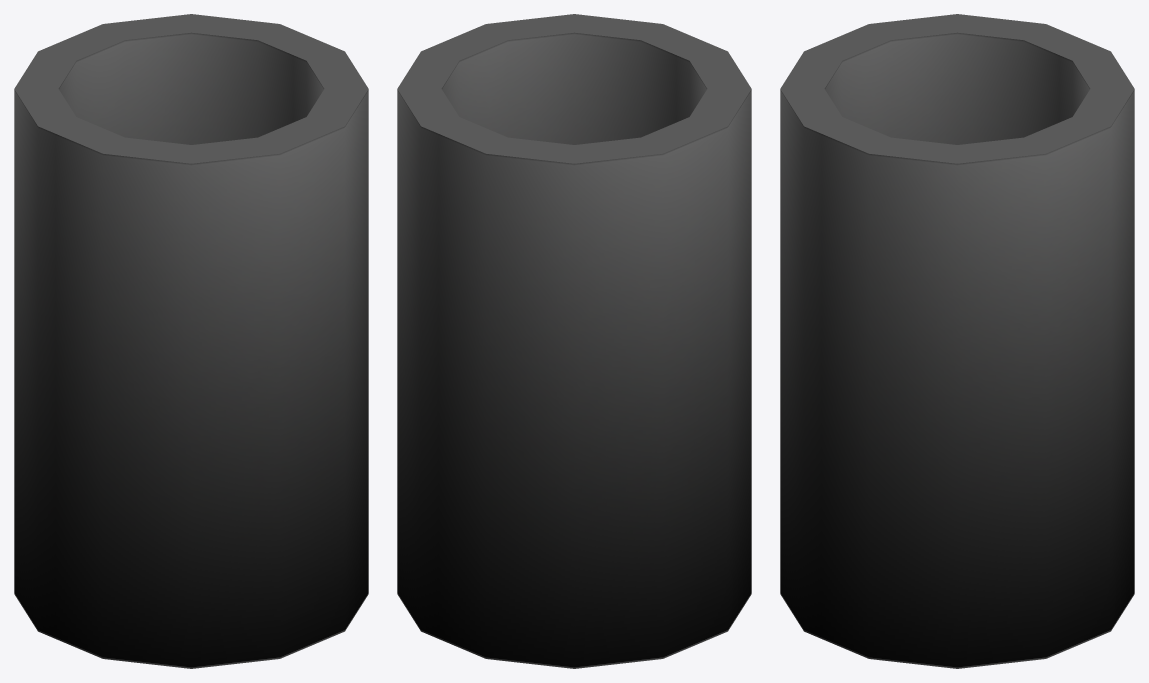
File: 1_water.fbx
The picture shows the model from 3 angles, left to right: view 1: azimuth 30°, elevation 25°; view 2: azimuth 150°, elevation 25°; view 3: azimuth 270°, elevation 25°; orthographic projection.
Visible parts, largest first — view 1: mqo_mesh; view 2: mqo_mesh; view 3: mqo_mesh.
Part boxes in pixels (x1,y1,x2,y2): mqo_mesh: [14, 14, 368, 668]; mqo_mesh: [397, 14, 751, 668]; mqo_mesh: [780, 14, 1134, 668].
Bounding box in the file's own units: 1.36 × 2.15 × 1.36.
